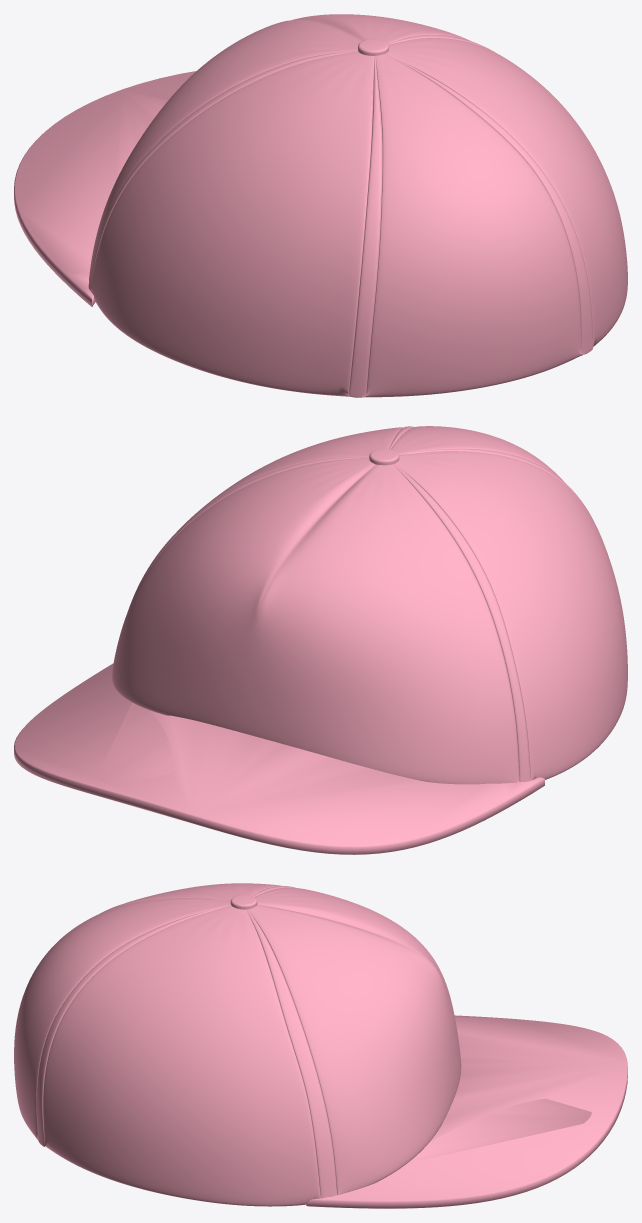
The model's file is pinkcap.fbx.
3 views of the same model, one above another, from view 1: azimuth 30°, elevation 25°; view 2: azimuth 150°, elevation 25°; view 3: azimuth 270°, elevation 25° (orthographic). The views are drawn at different scales.
Parts seen in each view (by area): view 1: node_id16; view 2: node_id16; view 3: node_id16.
Part boxes in pixels (bbox=[...]): node_id16: bbox=[14, 14, 627, 397]; node_id16: bbox=[14, 426, 627, 854]; node_id16: bbox=[14, 883, 627, 1208].
Size of the model in its own units: 0.47 by 0.2395 by 0.6297.
1 material, 1 textured.
